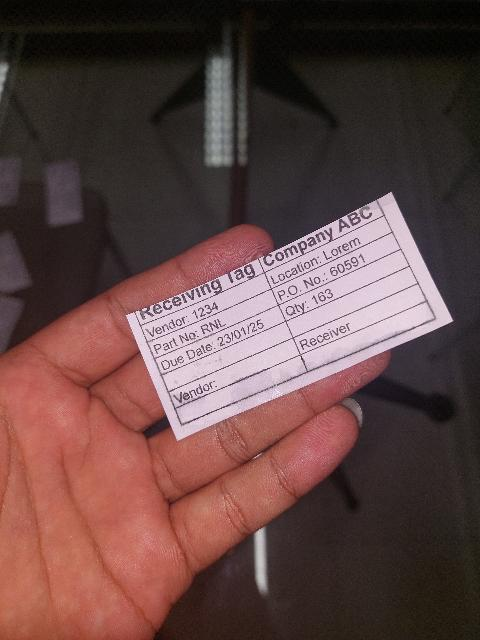PO no: (271, 231, 401, 306)
part no: (147, 286, 280, 360)
qty: (277, 250, 410, 320)
tags: (126, 193, 453, 442)
